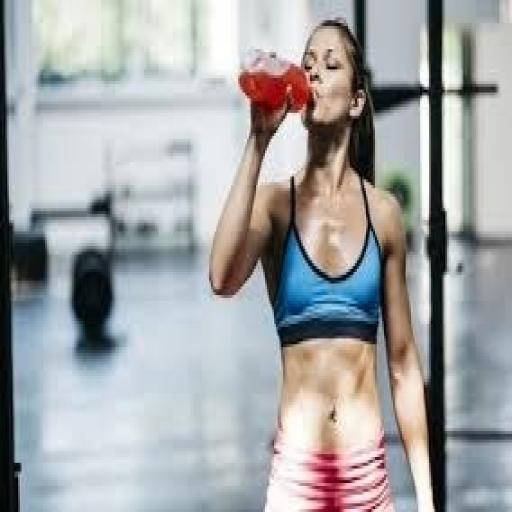drinking: (236, 46, 314, 116)
